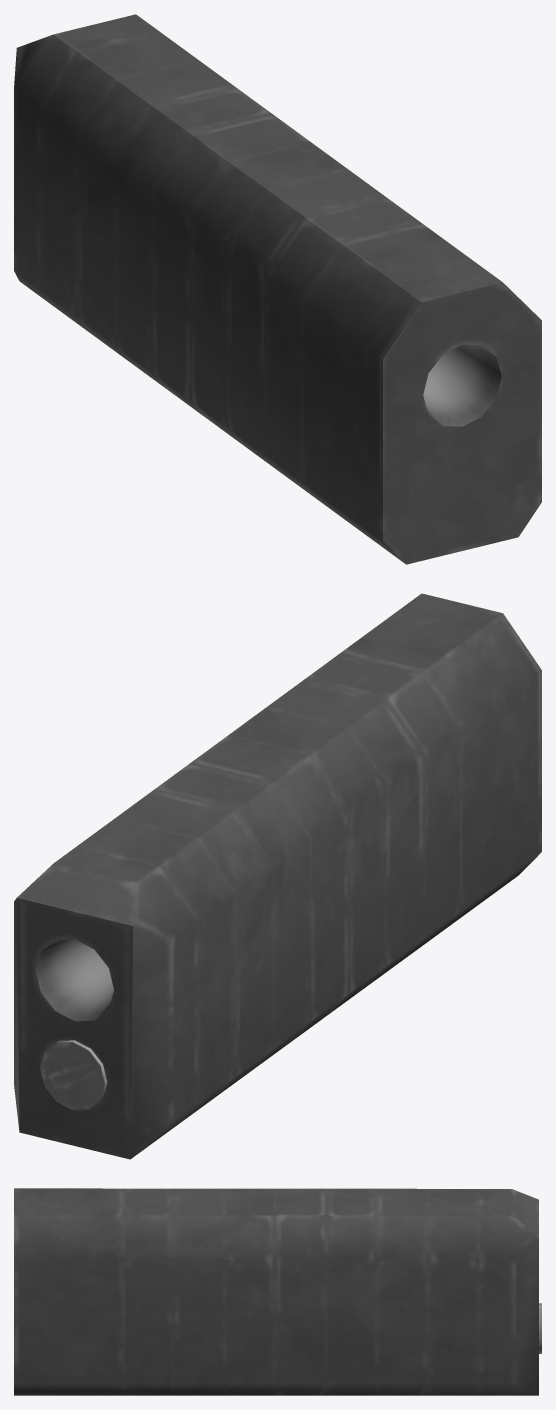
The model's file is IG_Acc_Muzzle_SHT_SIL_1.fbx.
The picture shows the model from 3 angles, top to bottom: view 1: azimuth 30°, elevation 25°; view 2: azimuth 150°, elevation 25°; view 3: azimuth 270°, elevation 25°; orthographic projection. The views are drawn at different scales.
Visible parts, largest first — view 1: Muzzle_SHT_SIL_1; view 2: Muzzle_SHT_SIL_1; view 3: Muzzle_SHT_SIL_1.
Part boxes in pixels (<box>): Muzzle_SHT_SIL_1: <box>14,14,541,564</box>; Muzzle_SHT_SIL_1: <box>14,593,541,1159</box>; Muzzle_SHT_SIL_1: <box>14,1188,541,1395</box>.
Bounding box in the file's own units: 0.0961 × 0.1495 × 0.4077.
